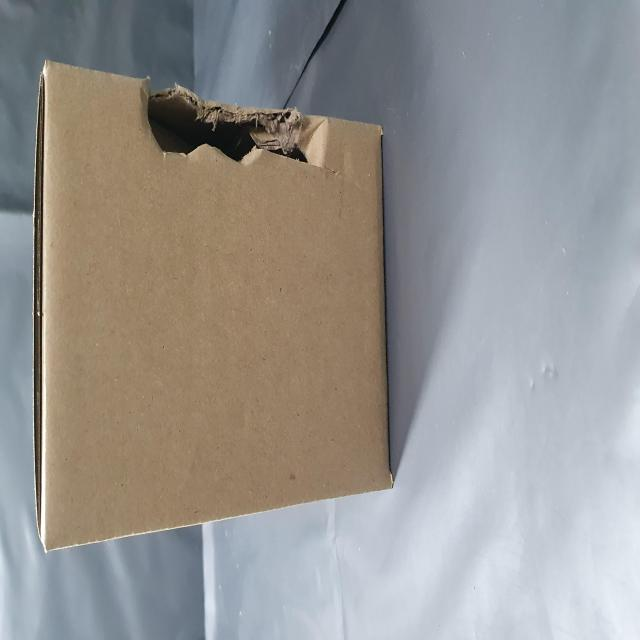damaged: (266, 248, 311, 576)
